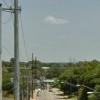Tree: (55, 55, 100, 100)
